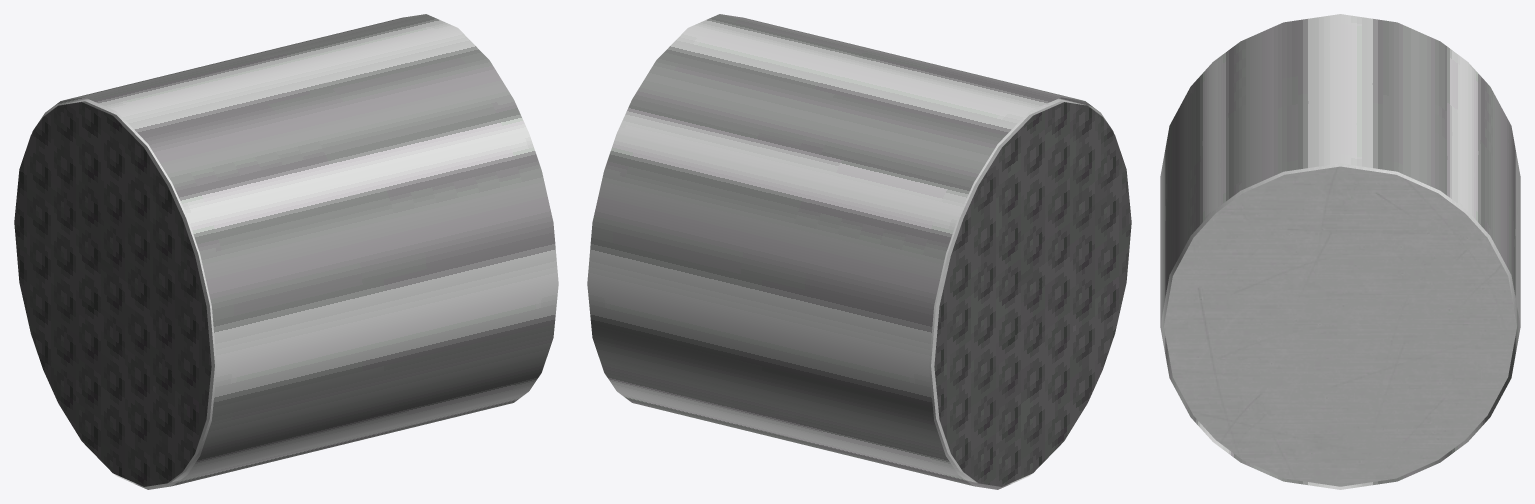
Rendered from spotlight.obj.
3 views of the same model, side by side, from view 1: azimuth 30°, elevation 25°; view 2: azimuth 150°, elevation 25°; view 3: azimuth 270°, elevation 25° (orthographic). The views are drawn at different scales.
Visible parts, largest first — view 1: Spotlight2, Spotlight6, Spotlight3, Spotlight5, Spotlight1; view 2: Spotlight4, Spotlight6, Spotlight3, Spotlight5, Spotlight1; view 3: Spotlight1, Spotlight3, Spotlight2, Spotlight4, Spotlight5.
Part boxes in pixels (box(x1,y1,x2,y2)): Spotlight2: box(187, 133, 558, 474); Spotlight6: box(14, 102, 211, 486); Spotlight3: box(45, 14, 528, 216); Spotlight5: box(114, 391, 528, 489); Spotlight1: box(62, 98, 216, 482); Spotlight4: box(587, 133, 958, 474); Spotlight6: box(934, 102, 1131, 486); Spotlight3: box(617, 14, 1100, 216); Spotlight5: box(617, 391, 1031, 489); Spotlight1: box(929, 98, 1083, 482); Spotlight1: box(1163, 163, 1517, 486); Spotlight3: box(1213, 14, 1467, 210); Spotlight2: box(1160, 62, 1212, 441); Spotlight4: box(1468, 62, 1520, 441); Spotlight5: box(1213, 437, 1467, 489).
Bounding box in the file's own units: 2.02 × 2.04 × 2.04.
Materials: 3 (3 with a texture image).
